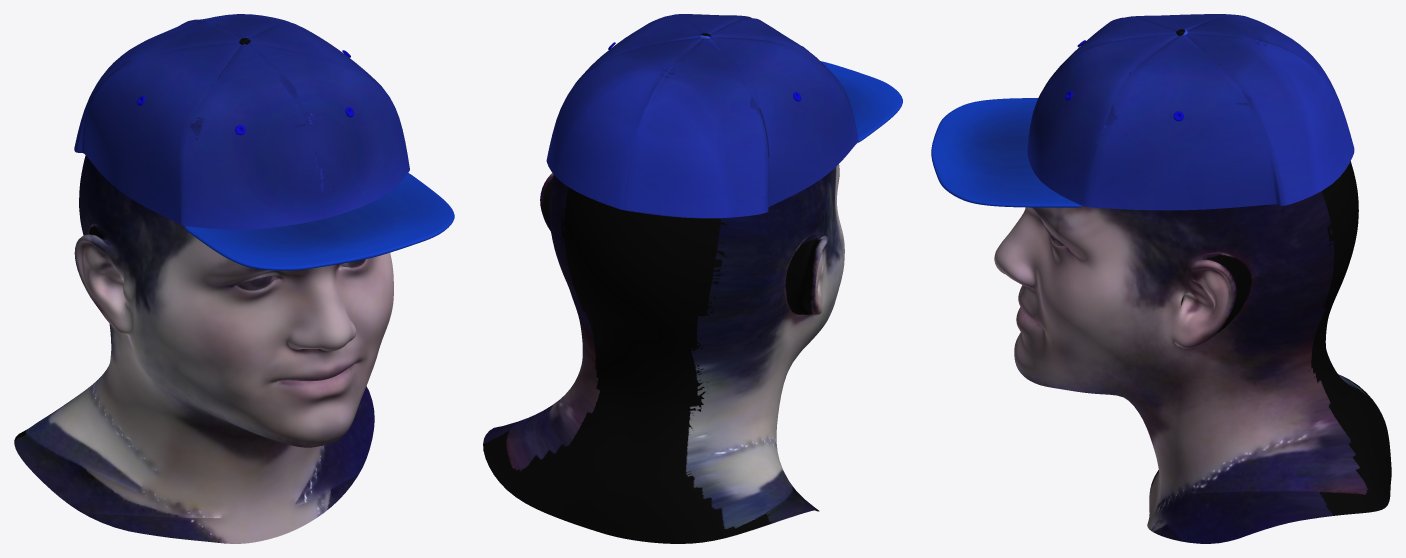
3 views of the same model, side by side, from view 1: azimuth 30°, elevation 25°; view 2: azimuth 150°, elevation 25°; view 3: azimuth 270°, elevation 25° (orthographic). The views are drawn at different scales.
Visible parts, largest first — view 1: FBHead, Sphere, Plane; view 2: FBHead, Sphere, Plane; view 3: FBHead, Sphere, Plane.
Boxes of the visible parts, bbox=[...] form: FBHead: bbox=[14, 155, 393, 543]; Sphere: bbox=[74, 14, 409, 229]; Plane: bbox=[184, 173, 454, 270]; FBHead: bbox=[483, 164, 844, 543]; Sphere: bbox=[546, 14, 858, 218]; Plane: bbox=[821, 61, 902, 142]; FBHead: bbox=[994, 161, 1391, 543]; Sphere: bbox=[1027, 14, 1354, 210]; Plane: bbox=[931, 98, 1082, 207].
Size of the model in its own units: 1.94 by 2.72 by 2.36.
8 materials, 8 textured.
